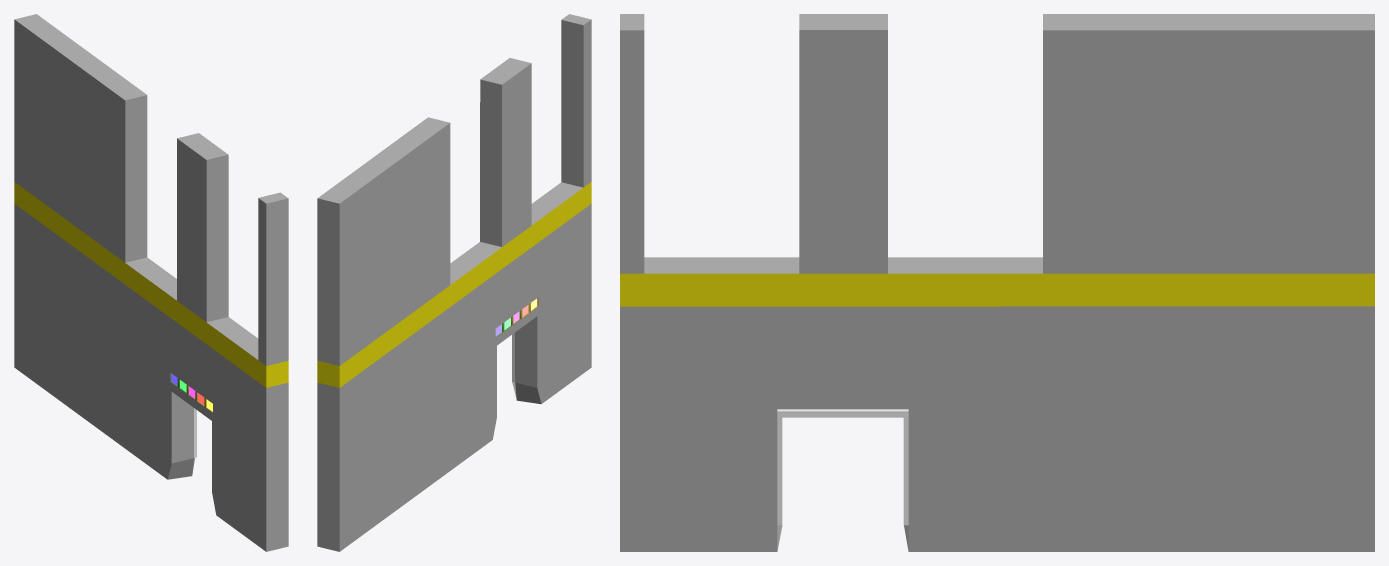
The model's file is 3rd room front door.fbx.
3 renders of one model, left to right at view 1: azimuth 30°, elevation 25°; view 2: azimuth 150°, elevation 25°; view 3: azimuth 270°, elevation 25°, orthographic. The views are drawn at different scales.
Parts seen in each view (by area): view 1: Cube.003; view 2: Cube.003; view 3: Cube.003.
Boxes of the visible parts, box(x1,y1,x2,y2) form: Cube.003: box(14, 14, 288, 551); Cube.003: box(317, 14, 591, 551); Cube.003: box(620, 14, 1374, 551).
Size of the model in its own units: 115 by 1515 by 1987.
